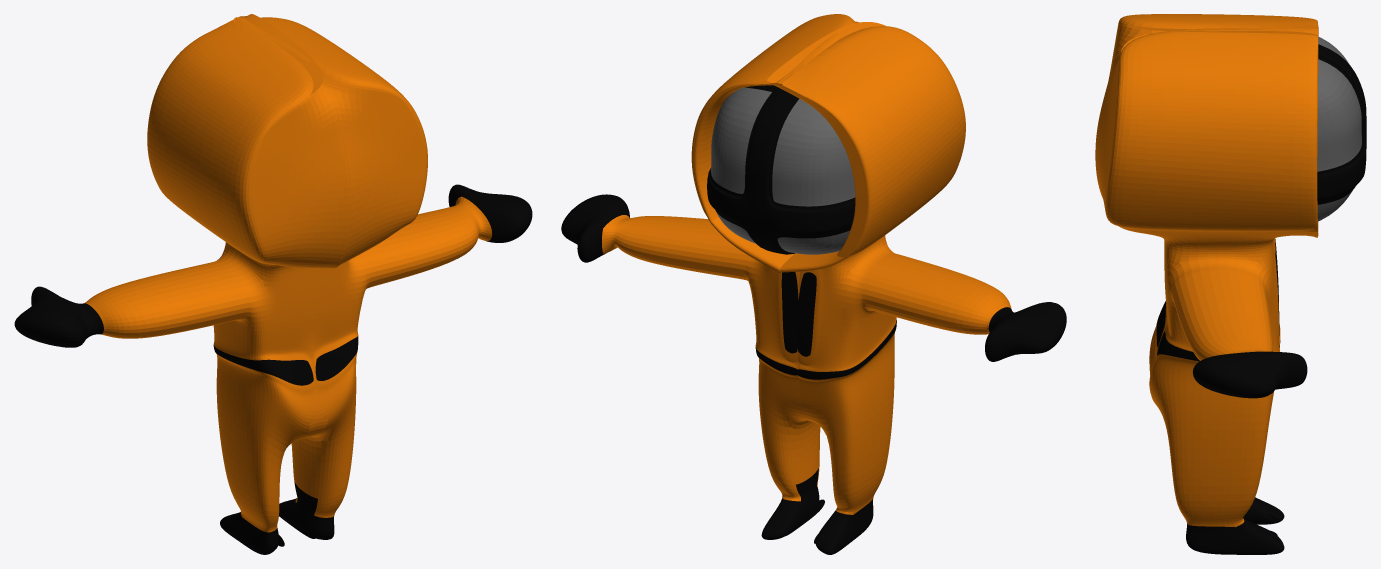
Rendered from personnage.fbx.
3 views of the same model, side by side, from view 1: azimuth 30°, elevation 25°; view 2: azimuth 150°, elevation 25°; view 3: azimuth 270°, elevation 25° (orthographic). The views are drawn at different scales.
Visible parts, largest first — view 1: Cube; view 2: Cube, Cube.001; view 3: Cube, Cube.001.
Boxes of the visible parts, x1,y1,x2,y2 form: Cube: (14,14,532,554); Cube: (561,14,1066,554); Cube.001: (707,85,855,254); Cube: (1095,14,1318,554); Cube.001: (1317,36,1366,221).
Size of the model in its own units: 608 by 570 by 274.
